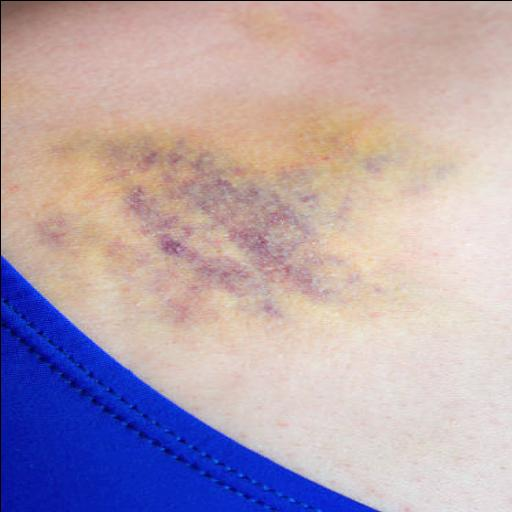bruises: (172, 178, 310, 278)
